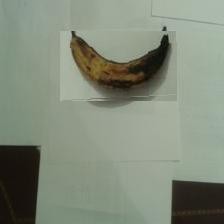Banana Rotten: (61, 32, 178, 102)
